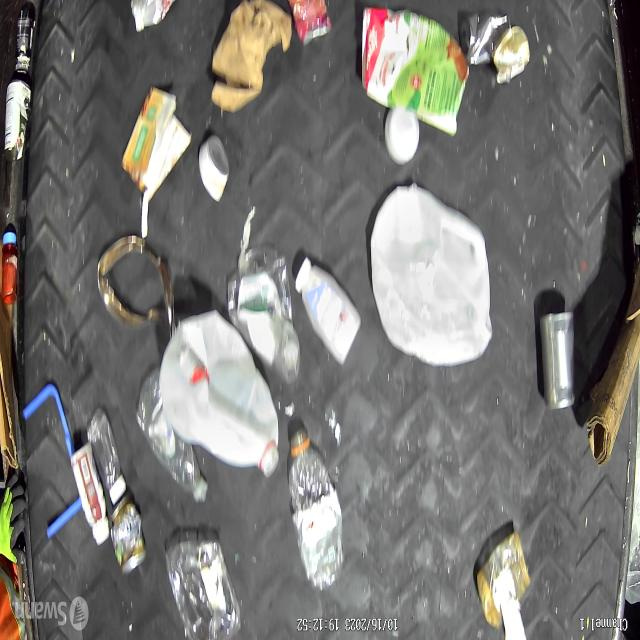can: (537, 308, 578, 409), (109, 491, 147, 580), (458, 12, 512, 68), (2, 79, 32, 163), (197, 133, 230, 204), (287, 0, 332, 49), (14, 1, 38, 76)
milk_jug: (368, 180, 494, 368), (157, 305, 280, 479)
plastic_bottle: (136, 368, 212, 504), (286, 422, 346, 594)
